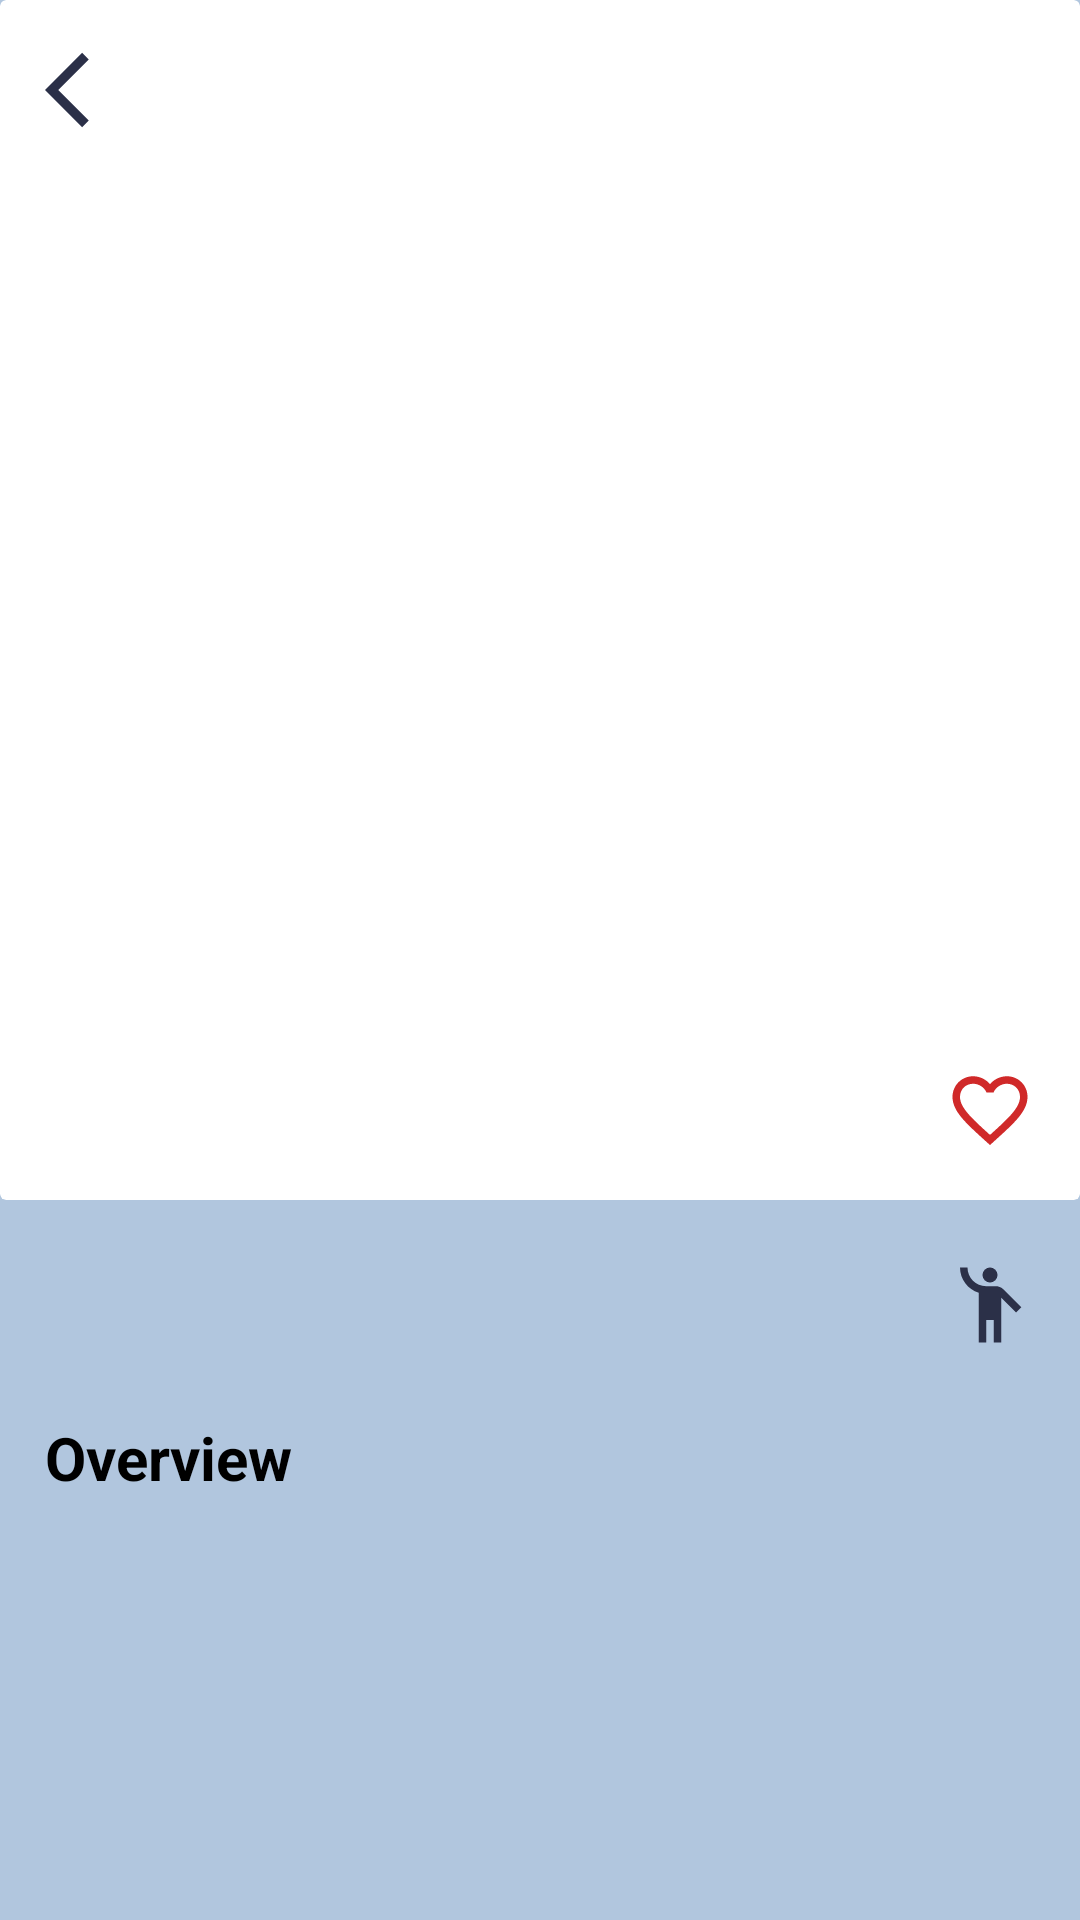

Named icons in this screenshot (1080×1920) and their bounding boxes, (x1, y1, x2, y2):
arrow back: (45, 53, 89, 127)
emoji people: (960, 1267, 1021, 1343)
favorite border: (952, 1076, 1028, 1145)
